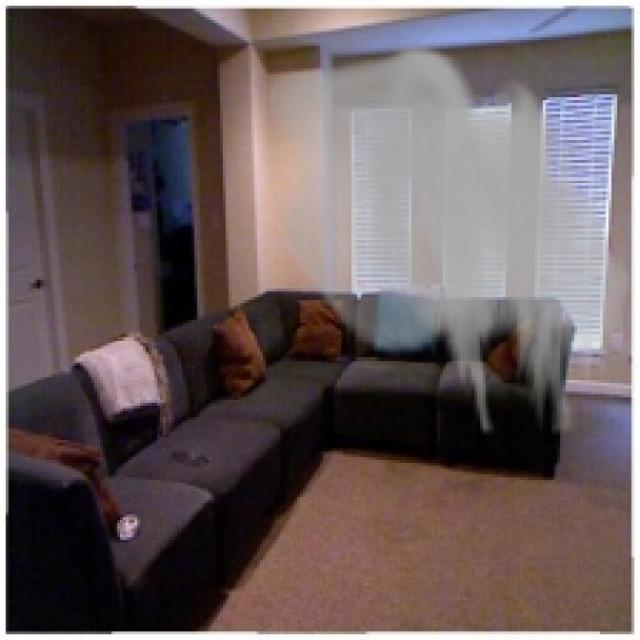smoke: (266, 46, 634, 434)
